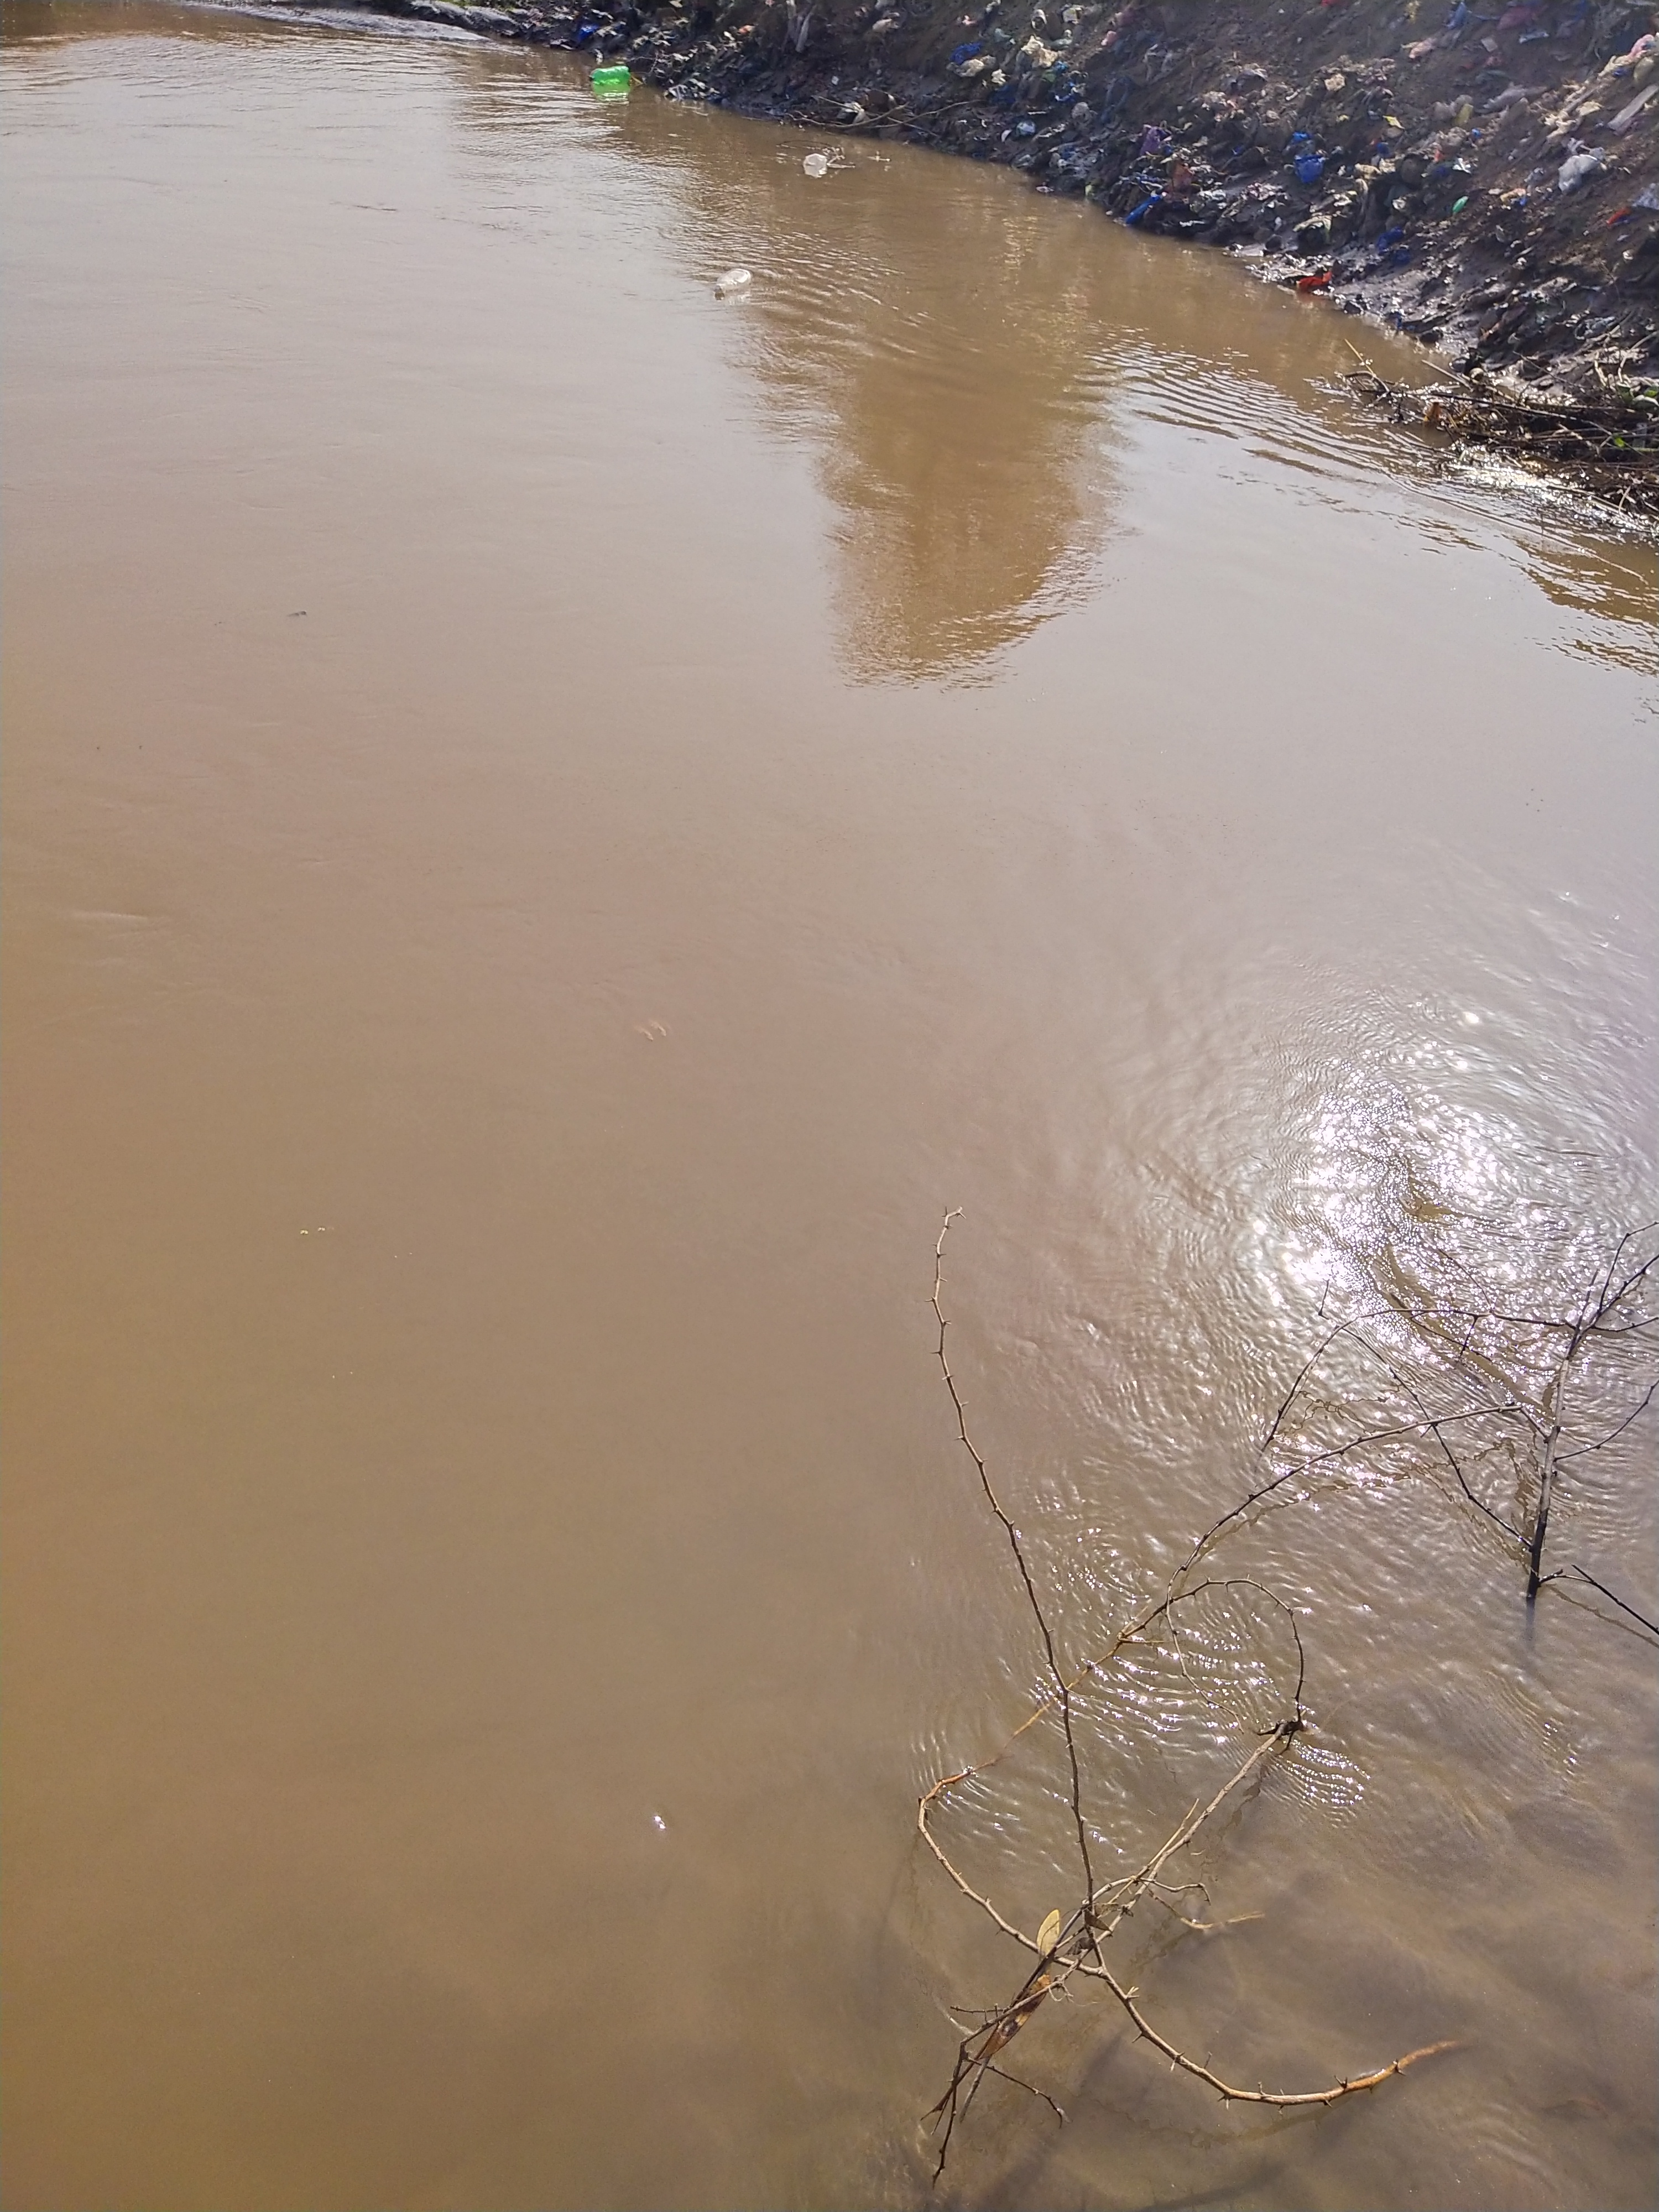Plastic Bottle: (714, 268, 751, 294), (587, 64, 629, 84)
